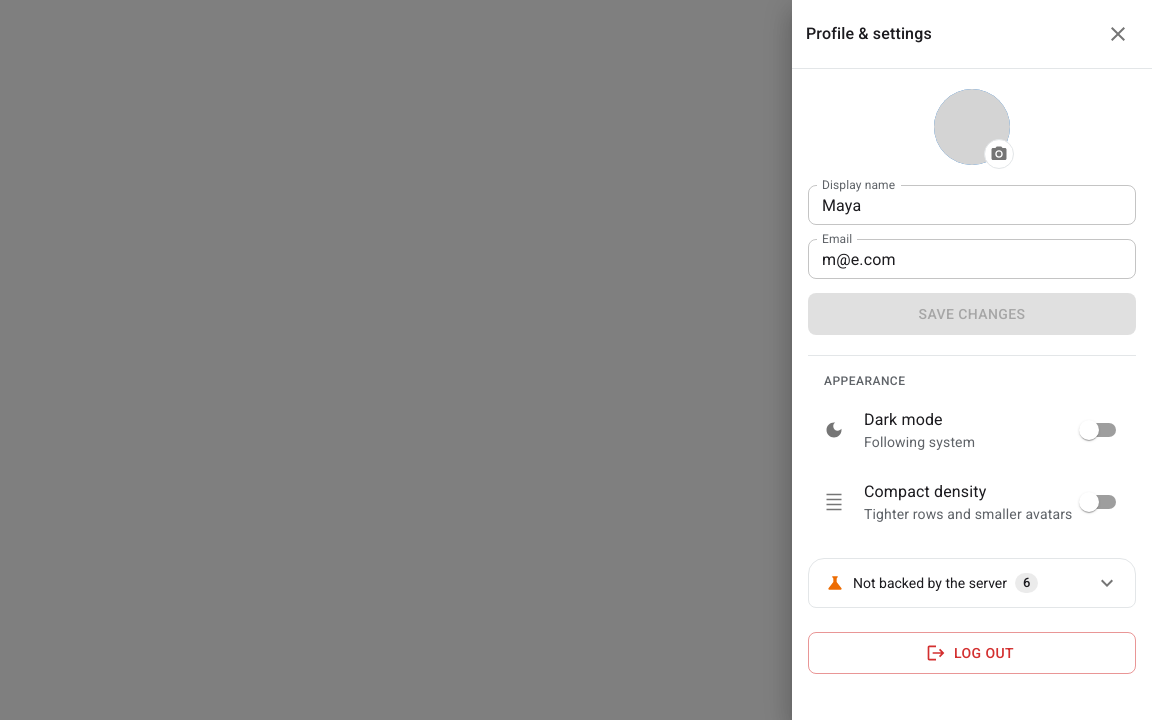
it: adjusting an existing crop › opens nothing when the stored photo cannot be fetched
The image size is (1152, 720).
Click the button named "profile photo options": (999,154) [984, 139, 1014, 169]
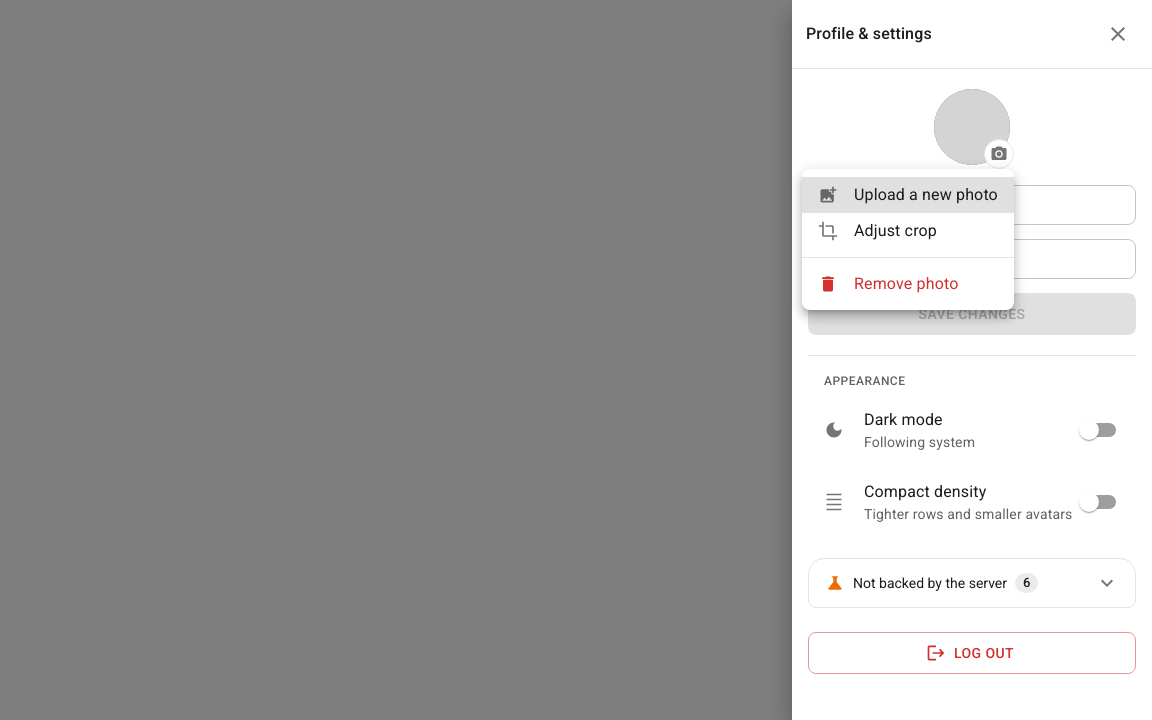
Click the menu item "Adjust crop": (878,231) [818, 221, 937, 241]
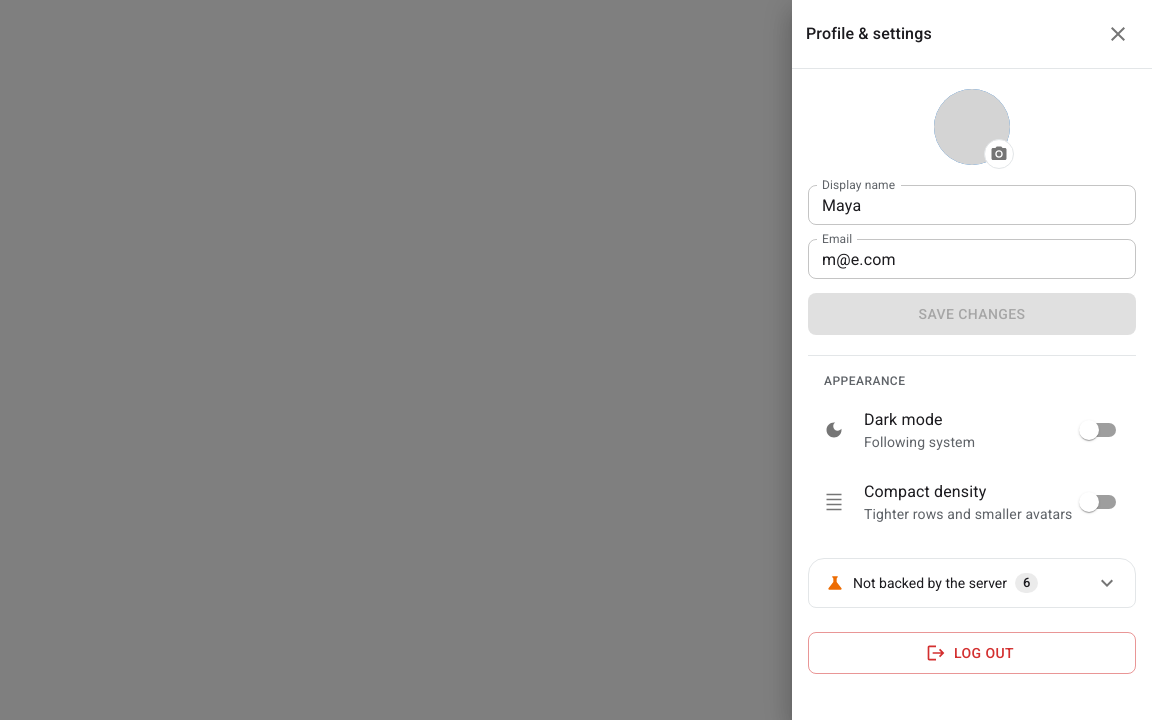
expect the menu item is gone: met
